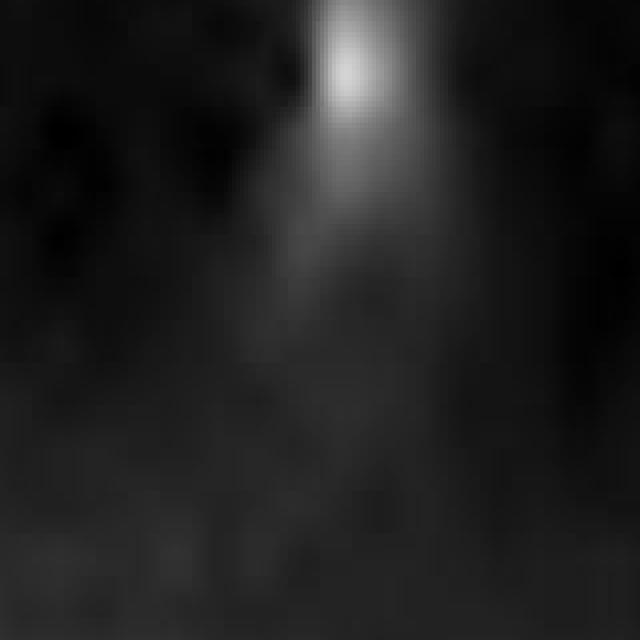person: (261, 1, 425, 305)
